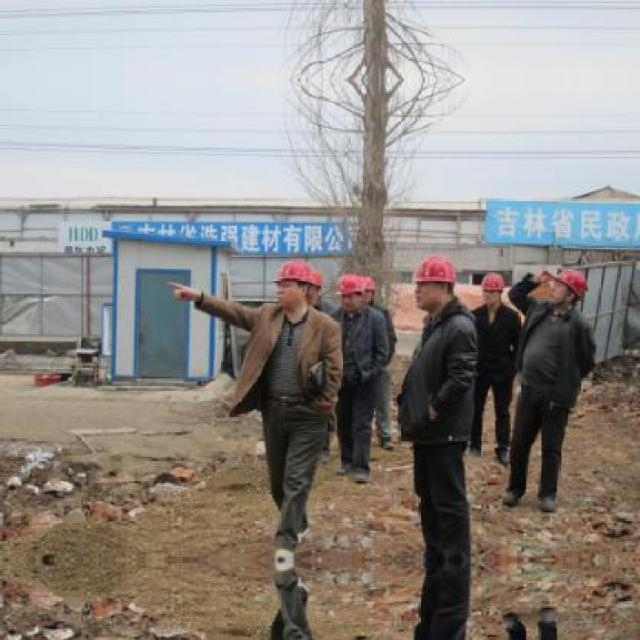helmet: (412, 251, 458, 312), (274, 259, 320, 310), (556, 267, 590, 308), (478, 270, 507, 305), (334, 270, 360, 308), (358, 271, 374, 307)
